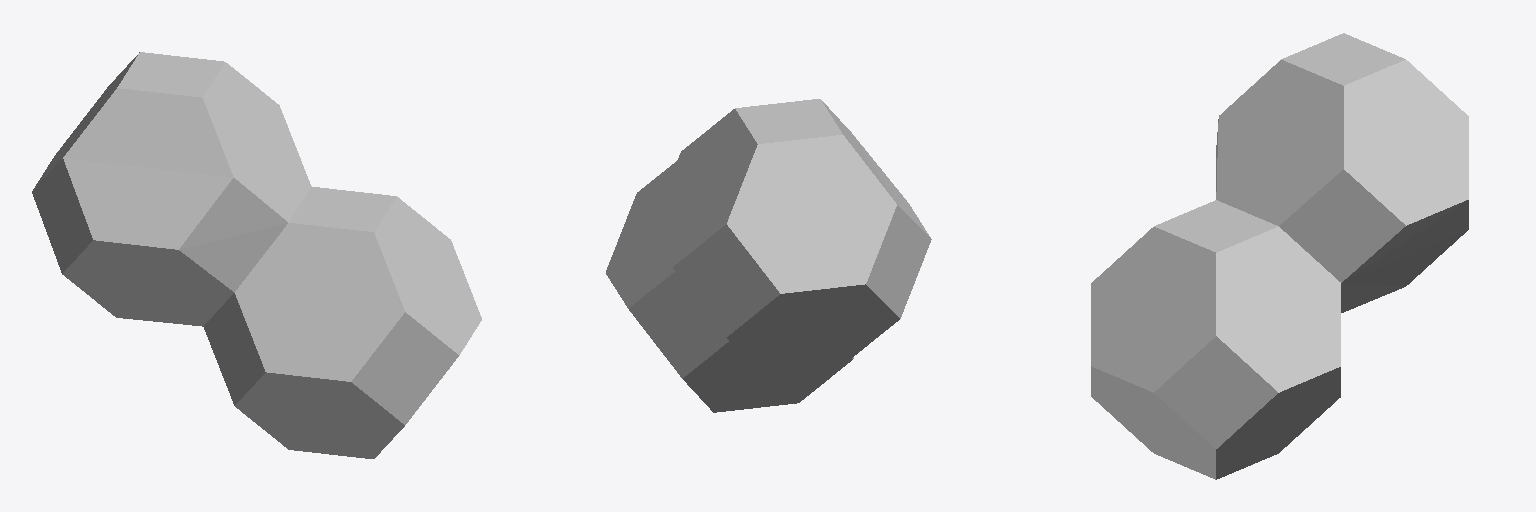
Rendered from fcc3.2.obj.
The picture shows the model from 3 angles: view 1: azimuth 30°, elevation 25°; view 2: azimuth 150°, elevation 25°; view 3: azimuth 270°, elevation 25°; orthographic projection.
Parts seen in each view (by area): view 1: Obj2_Mesh2, Obj3_Mesh3; view 2: Obj2_Mesh2, Obj3_Mesh3; view 3: Obj3_Mesh3, Obj2_Mesh2.
Part boxes in pixels (bbox=[...]): Obj2_Mesh2: bbox=[32, 52, 311, 326]; Obj3_Mesh3: bbox=[203, 187, 481, 458]; Obj2_Mesh2: bbox=[650, 99, 931, 370]; Obj3_Mesh3: bbox=[606, 161, 853, 412]; Obj3_Mesh3: bbox=[1091, 200, 1340, 479]; Obj2_Mesh2: bbox=[1216, 33, 1468, 312].
Size of the model in its own units: 1.83 by 1.82 by 1.83.